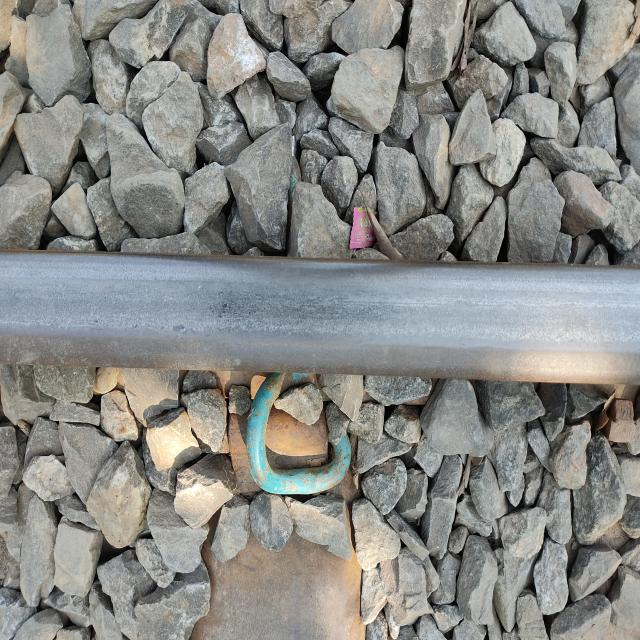non-defective: (194, 228, 406, 574)
